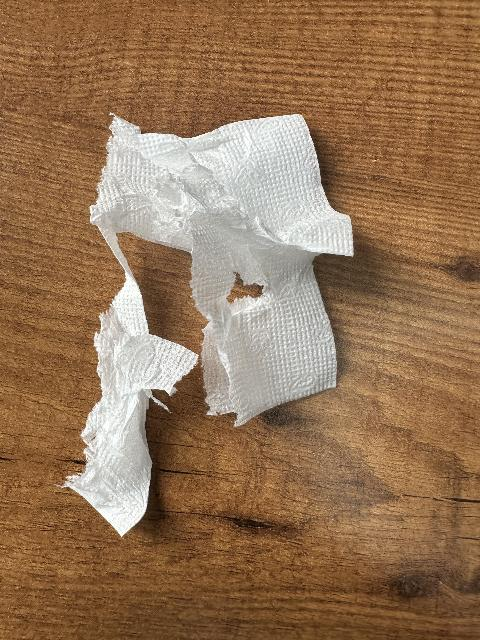Kagit: (65, 98, 352, 533)
